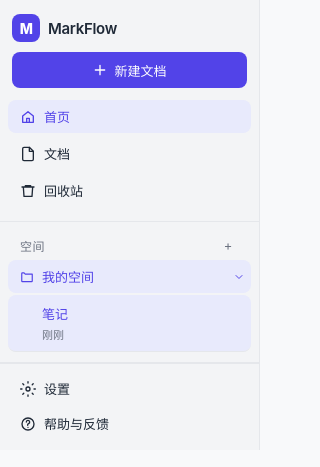
Test: Sidebar › collapsing my-space hides root notes without rendering my-folder container
Click the button with test id "sidebar-space-my-toggle". click: (239, 276)
box: [227, 264, 251, 288]
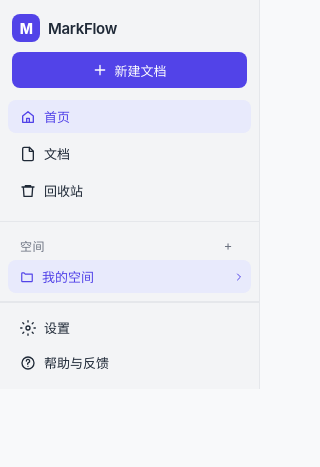
Now the text "笔记" is gone
